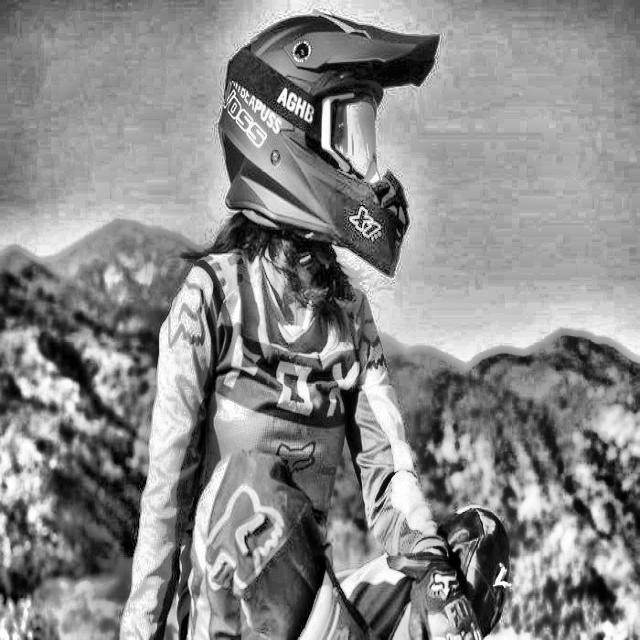Helmet: (210, 12, 446, 300)
